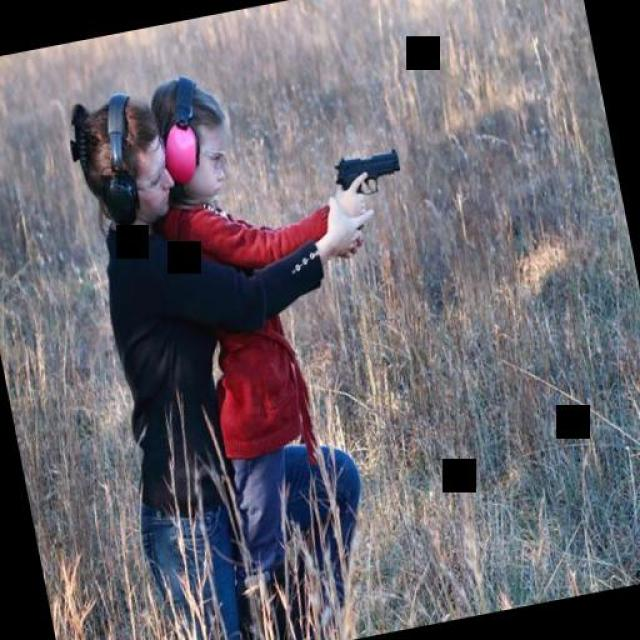gun: (325, 136, 414, 248)
